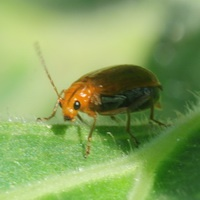insect: (34, 43, 166, 155)
